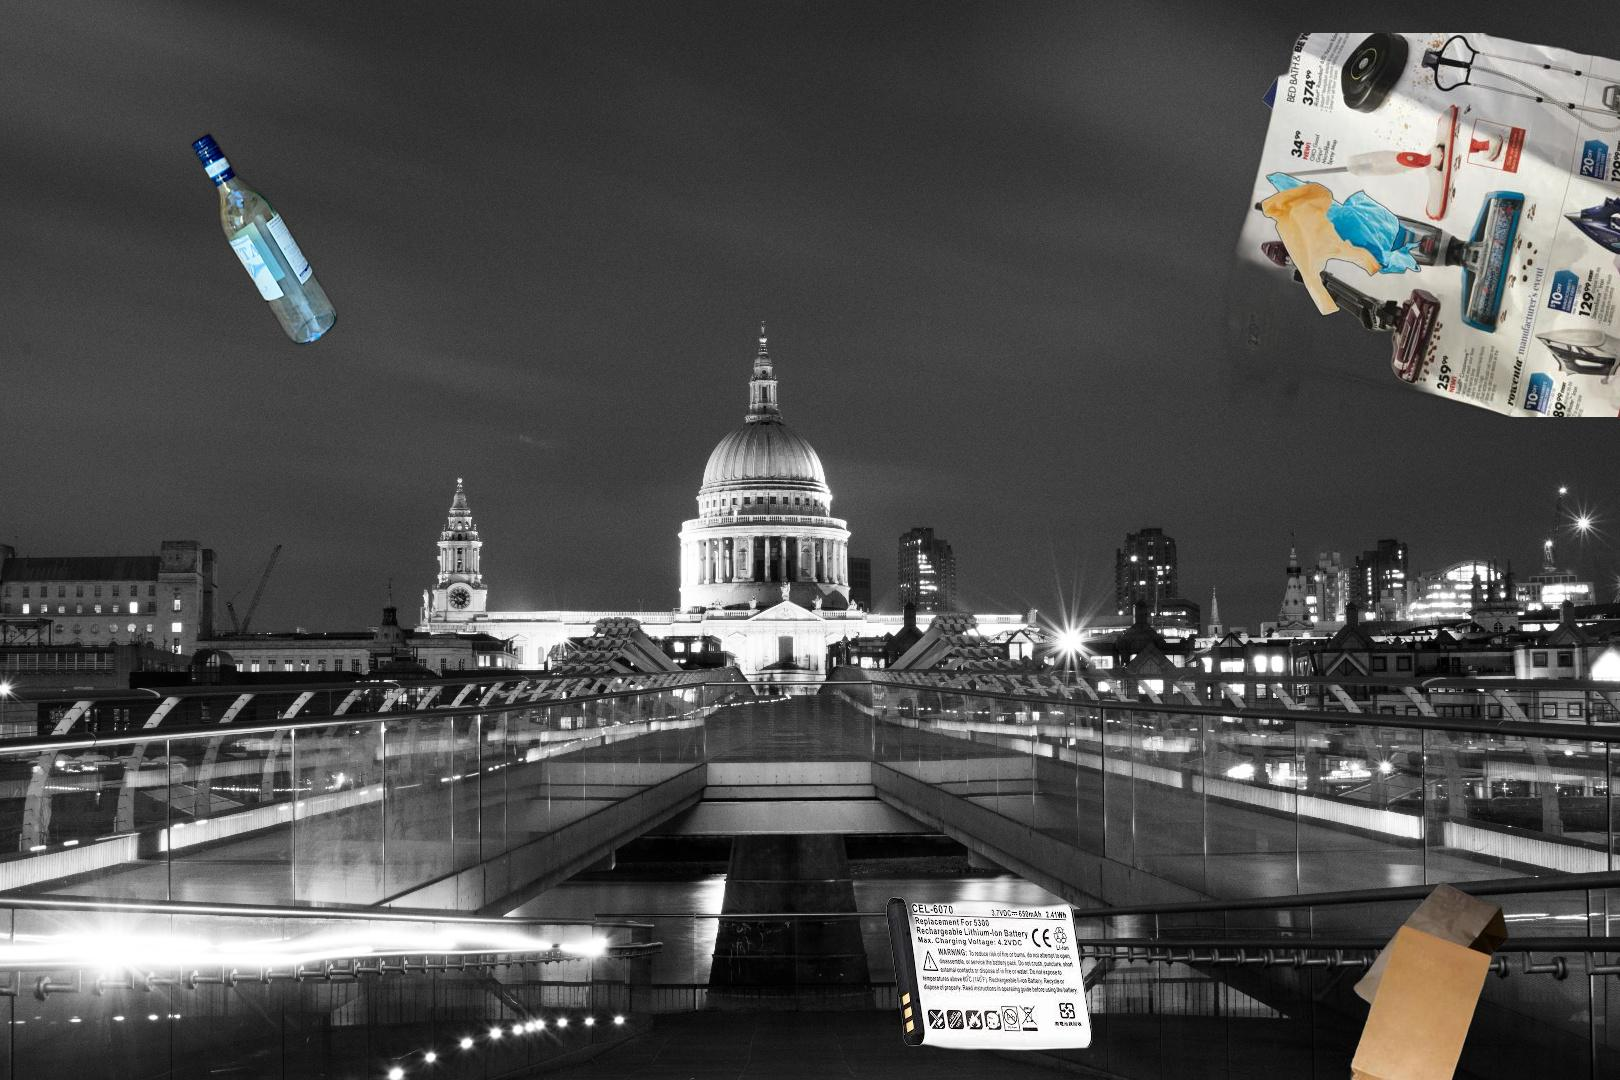battery: (884, 894, 1094, 1053)
glass: (188, 128, 342, 351)
paper: (1219, 33, 1620, 417)
paper-bag: (1346, 879, 1512, 1080)
plastic-bag: (1258, 171, 1426, 323)
